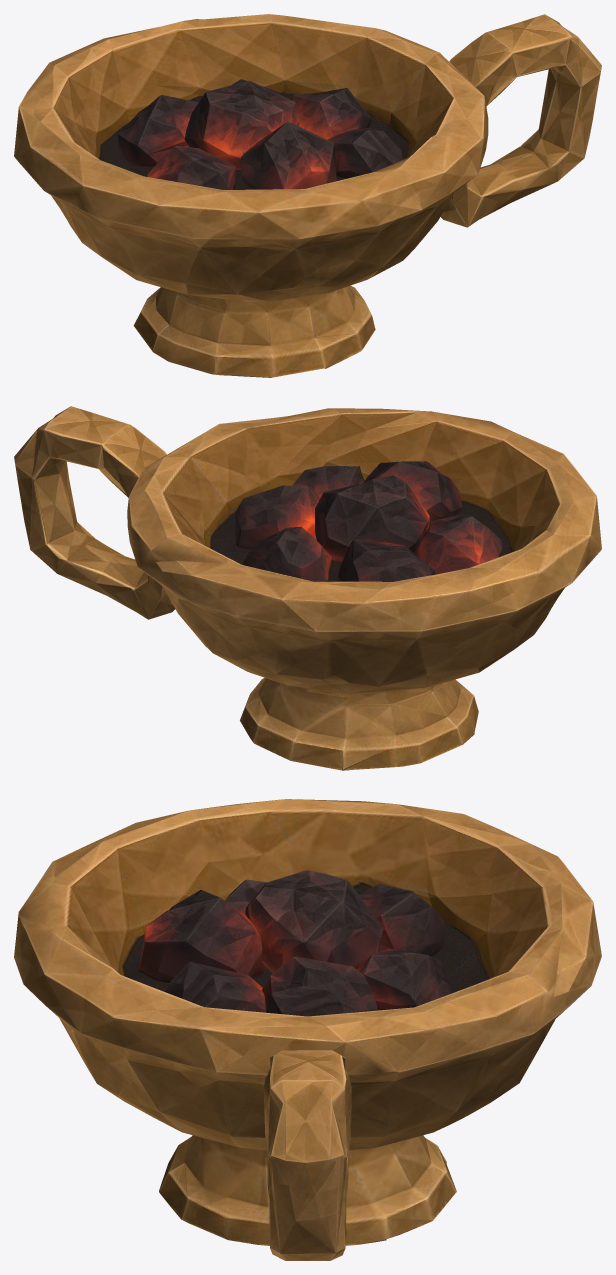
Rendered from censer.glb.
The picture shows the model from 3 angles, top to bottom: view 1: azimuth 30°, elevation 25°; view 2: azimuth 150°, elevation 25°; view 3: azimuth 270°, elevation 25°; orthographic projection. The views are drawn at different scales.
Bounding box in the file's own units: 1.9 × 0.7868 × 1.42.
Materials: 1 (1 with a texture image).
